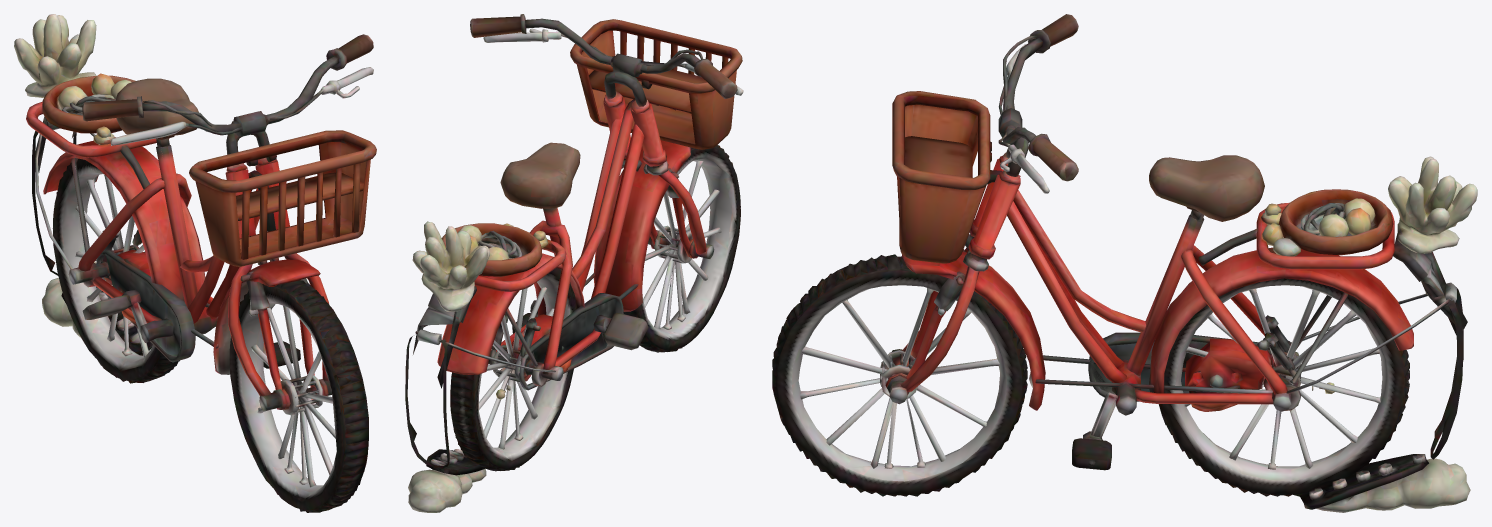
File: bicycle.glb
3 renders of one model, left to right at view 1: azimuth 30°, elevation 25°; view 2: azimuth 150°, elevation 25°; view 3: azimuth 270°, elevation 25°, orthographic. The views are drawn at different scales.
Visible parts, largest first — view 1: tripo_node_63af141b-b8f1-4a04-9135-31a1ebb97ab5; view 2: tripo_node_63af141b-b8f1-4a04-9135-31a1ebb97ab5; view 3: tripo_node_63af141b-b8f1-4a04-9135-31a1ebb97ab5.
Boxes of the visible parts, box(x1,y1,x2,y2) form: tripo_node_63af141b-b8f1-4a04-9135-31a1ebb97ab5: box(14, 14, 376, 512); tripo_node_63af141b-b8f1-4a04-9135-31a1ebb97ab5: box(405, 14, 743, 512); tripo_node_63af141b-b8f1-4a04-9135-31a1ebb97ab5: box(772, 14, 1477, 512).
Bounding box in the file's own units: 0.5098 × 0.6465 × 0.998.
1 material, 1 textured.
